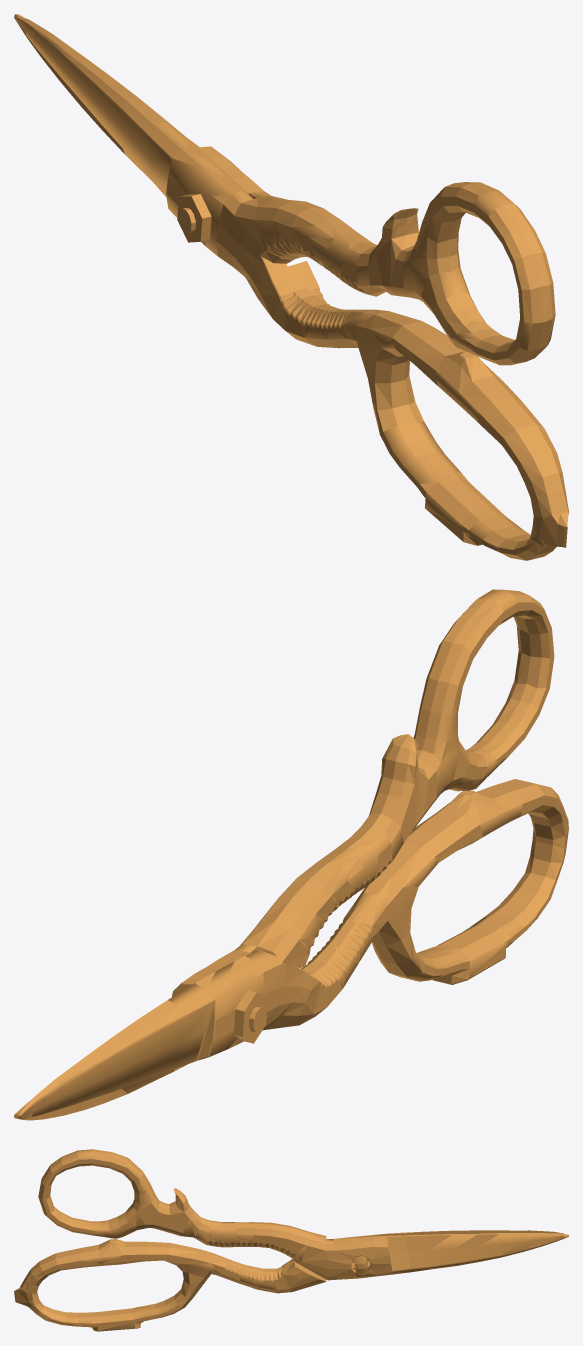
The model's file is scissors2_6.dae.
3 views of the same model, one above another, from view 1: azimuth 30°, elevation 25°; view 2: azimuth 150°, elevation 25°; view 3: azimuth 270°, elevation 25° (orthographic). The views are drawn at different scales.
Visible parts, largest first — view 1: M004947_019; view 2: M004947_019; view 3: M004947_019.
Part boxes in pixels (left/top/right/bottom): M004947_019: left=14, top=14, right=568, bottom=560; M004947_019: left=14, top=589, right=568, bottom=1120; M004947_019: left=14, top=1149, right=568, bottom=1331.
Size of the model in its own units: 0.0176 by 0.253 by 0.0896.
